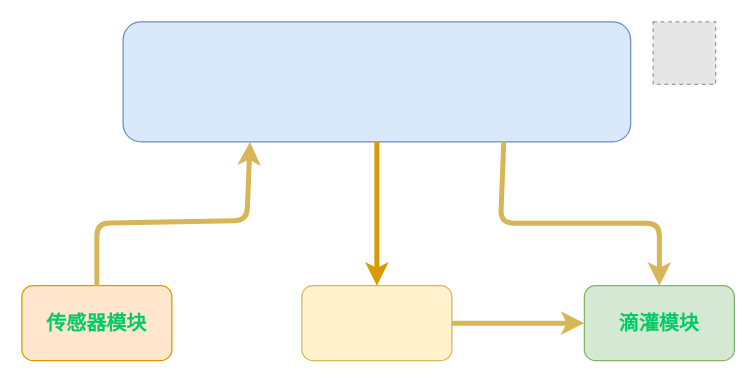
The diagram is 756 pixels wide and 383 high, and some of its shapes have lost their labels. Grey dashed boxes stand in for pictures. The shapes that lost their labels are listed below. From the top down, each one's centre as x and y in pixels, then its label:
the point at 376,81: 智能水肥一体化云平台
the point at 376,322: 水肥混合模块
